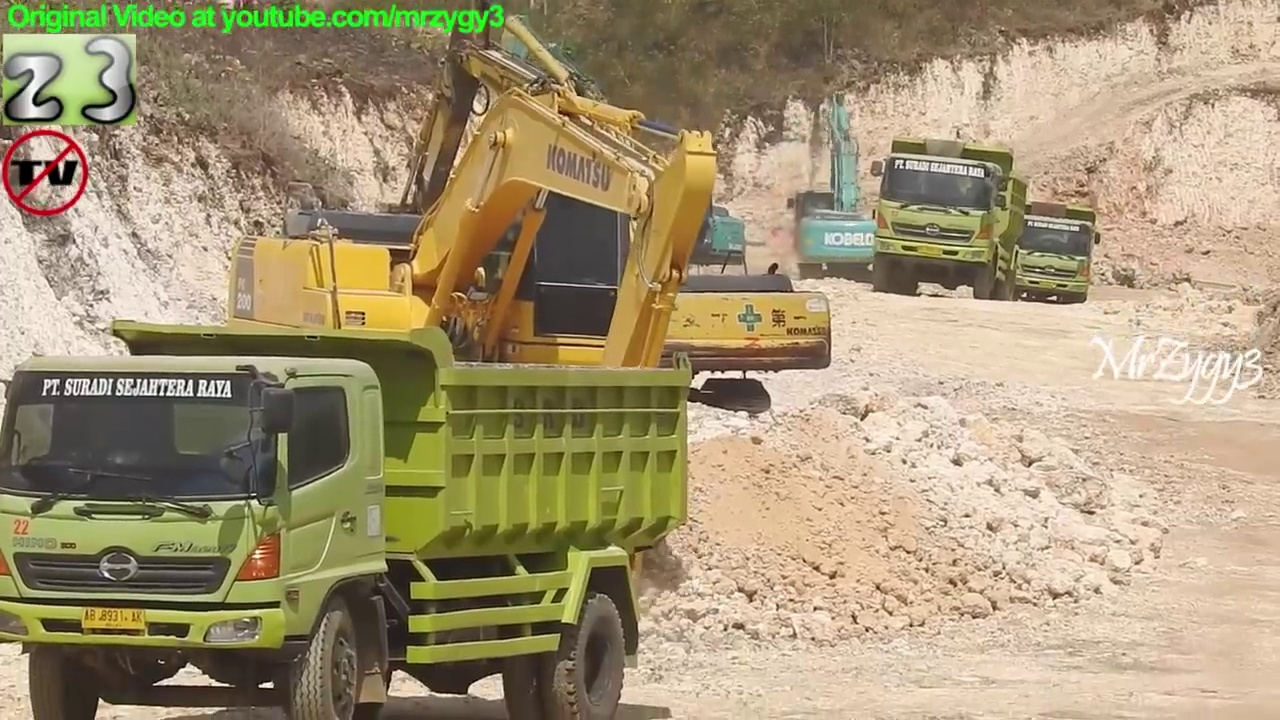excavator: (171, 68, 726, 651), (319, 1, 836, 431), (437, 10, 762, 338), (779, 96, 912, 289)
truck: (1, 312, 697, 720), (867, 128, 1033, 306), (985, 192, 1107, 312)
